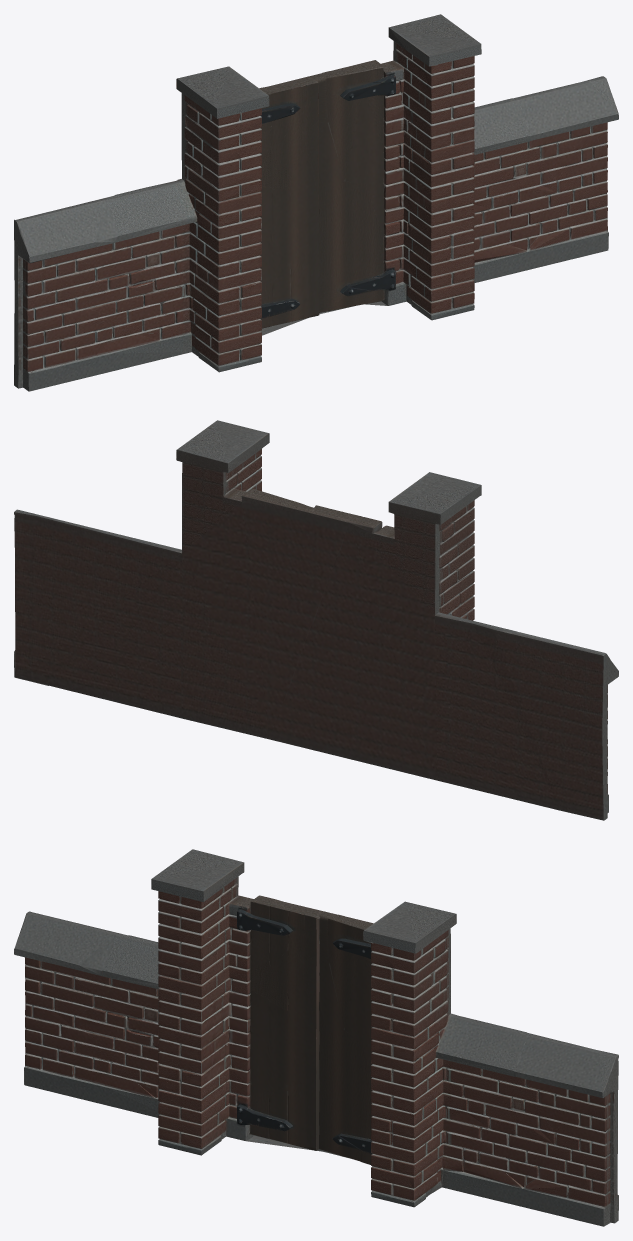
File: coal_yard_wall_gate.glb
3 views of the same model, one above another, from view 1: azimuth 30°, elevation 25°; view 2: azimuth 150°, elevation 25°; view 3: azimuth 330°, elevation 25° (orthographic).
Bounding box in the file's own units: 1.9 × 0.8247 × 0.2299.
1 material, 1 textured.
